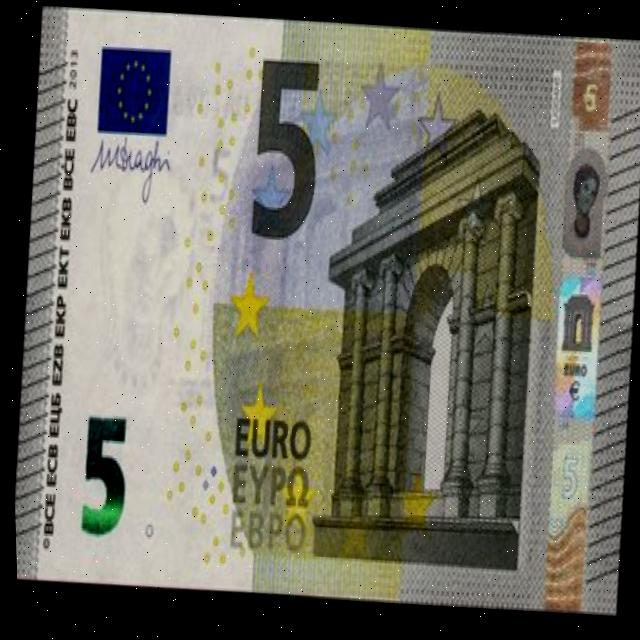banknote: (0, 0, 640, 634), (232, 46, 336, 251), (63, 408, 145, 544), (550, 454, 587, 519), (572, 76, 608, 132)
